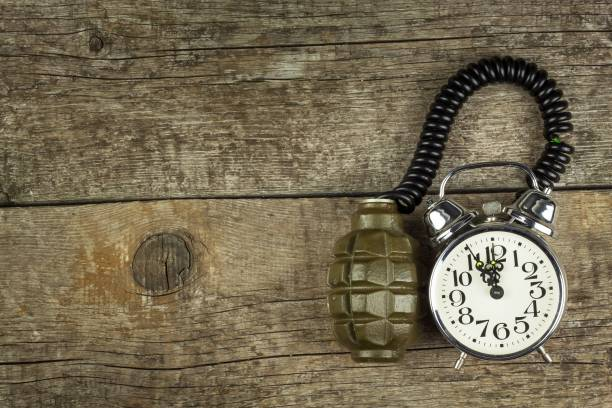e1: (328, 198, 423, 370)
